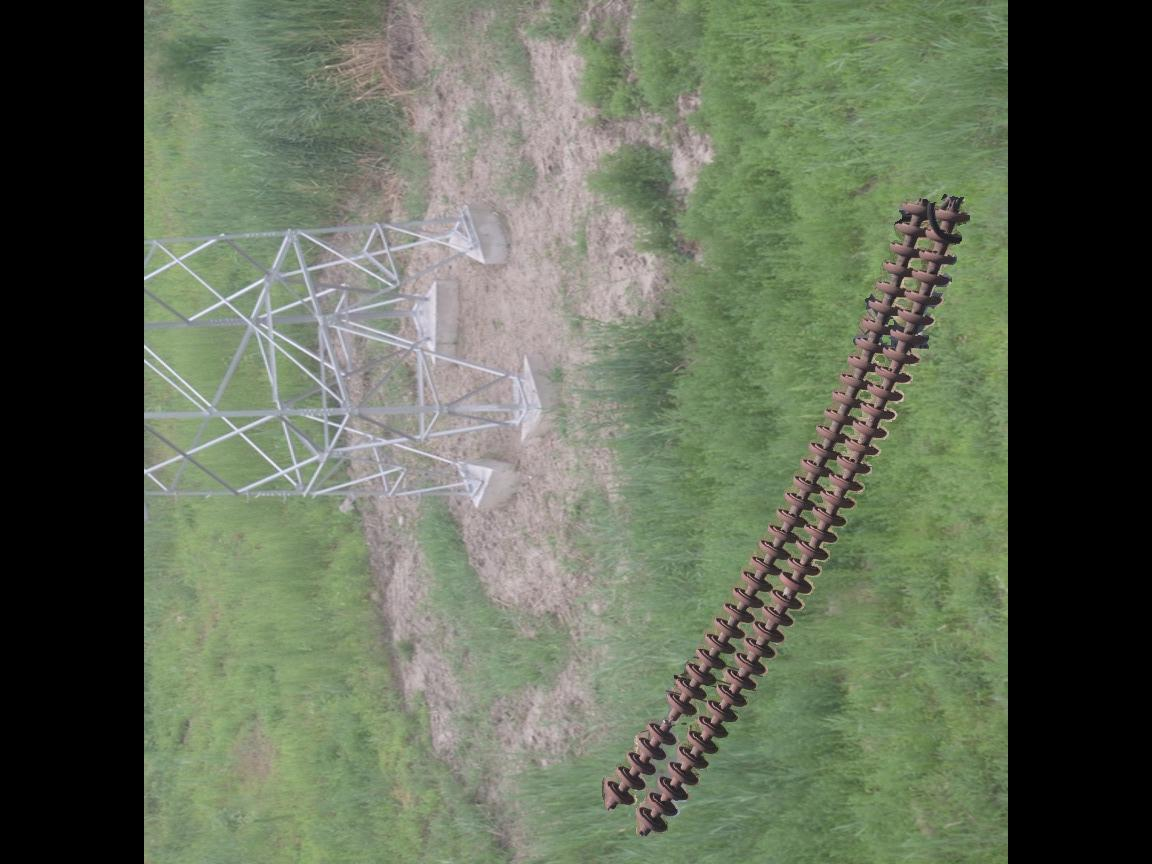insulator: (601, 193, 972, 841)
insulator_stringdrop: (641, 689, 700, 748)
